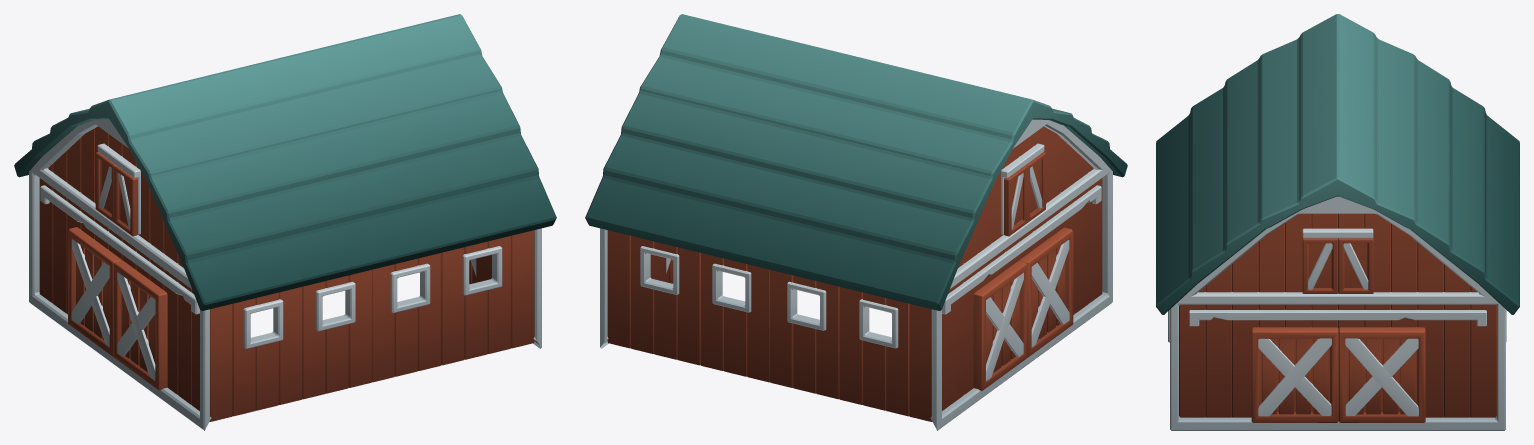
File: bard.fbx
3 renders of one model, left to right at view 1: azimuth 30°, elevation 25°; view 2: azimuth 150°, elevation 25°; view 3: azimuth 270°, elevation 25°, orthographic. The views are drawn at different scales.
Visible parts, largest first — view 1: Barn, door4, door3; view 2: Barn, door3, door4; view 3: Barn, door1, door2.
Part boxes in pixels (<box>): Barn: <box>14,14,556,430</box>; door4: <box>113,260,167,390</box>; door3: <box>68,227,121,356</box>; Barn: <box>585,14,1127,430</box>; door3: <box>973,261,1027,390</box>; door4: <box>1019,227,1073,357</box>; Barn: <box>1156,14,1519,430</box>; door1: <box>1338,327,1425,422</box>; door2: <box>1251,327,1338,422</box>.
Size of the model in its own units: 10.34 by 7.52 by 9.65.
Materials: 1 (1 with a texture image).
